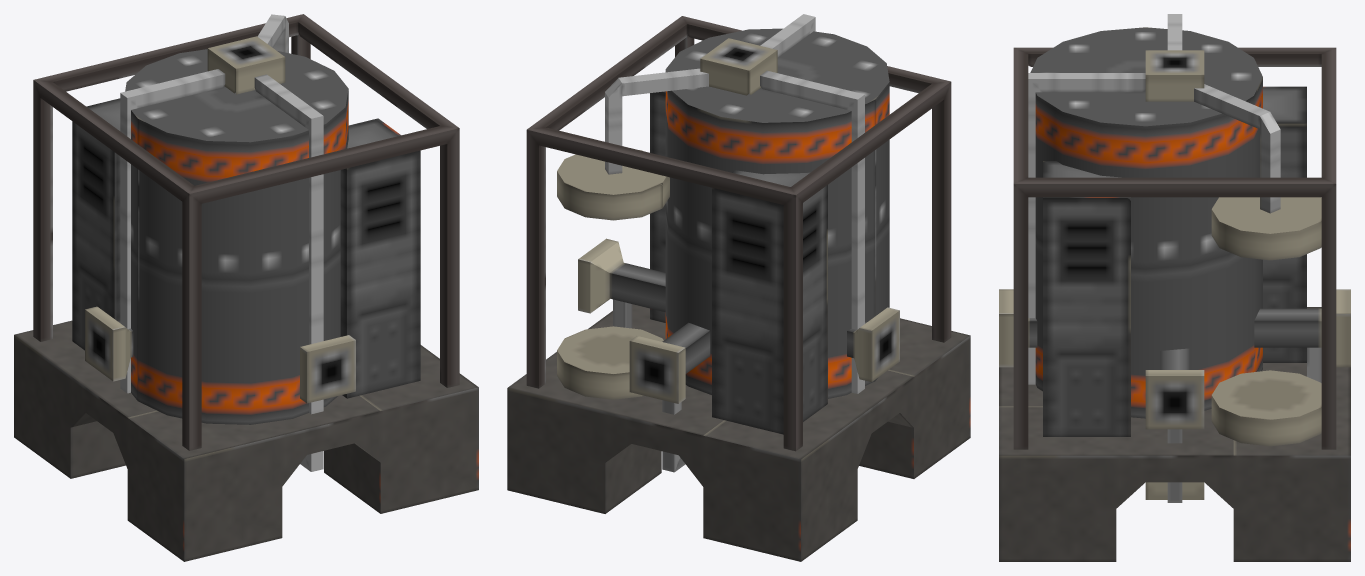
Rendered from solidifier_main.obj.
The picture shows the model from 3 angles, left to right: view 1: azimuth 30°, elevation 25°; view 2: azimuth 150°, elevation 25°; view 3: azimuth 270°, elevation 25°; orthographic projection. The views are drawn at different scales.
Parts seen in each view (by area): view 1: Main; view 2: Main; view 3: Main.
Boxes of the visible parts, x1,y1,x2,y2 form: Main: (14,14,478,561); Main: (507,14,970,561); Main: (999,14,1350,561).
Bounding box in the file's own units: 3 × 4 × 3.
